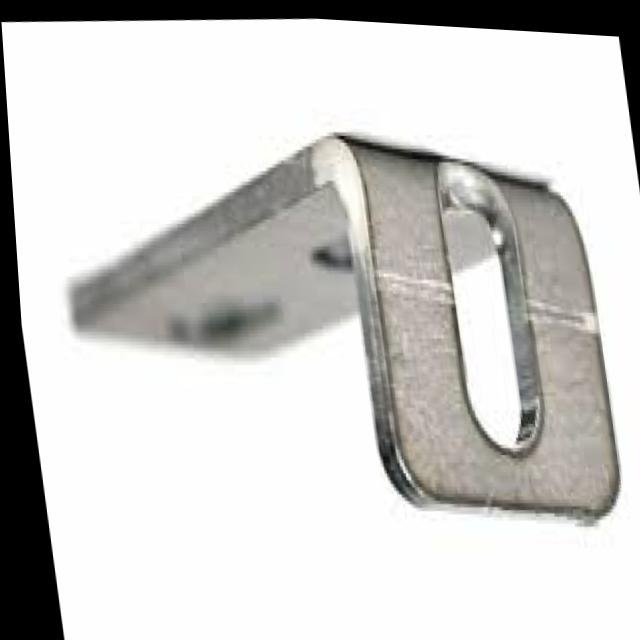holes: (417, 164, 546, 460)
